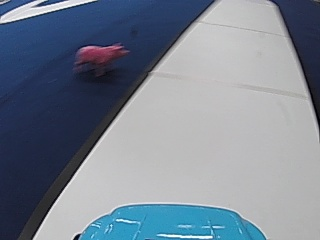pig: (72, 39, 127, 79)
